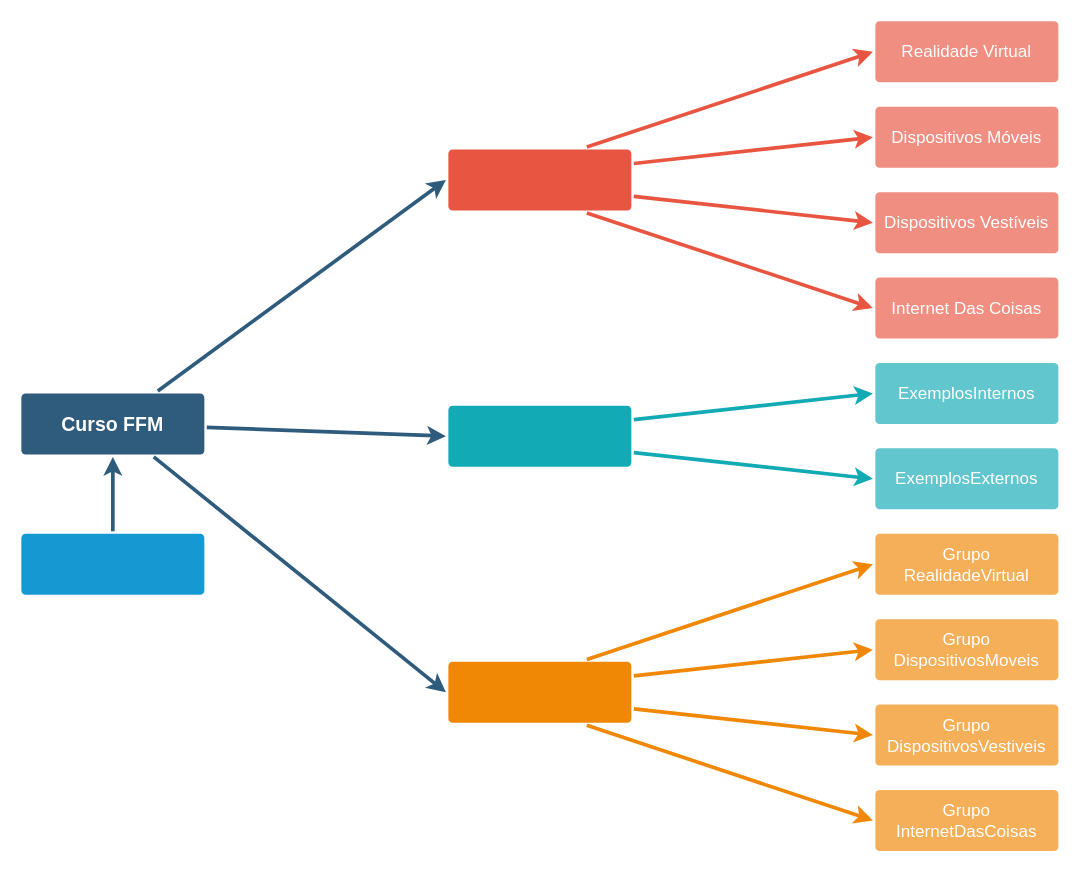
Image size: 1078x871. Some labels were removed from this diagram. Here are the shapes that lost their labels. From the top down, the box of each, then its label:
(448, 149, 631, 210): Conceitos
(448, 405, 631, 466): HardwareExemplos
(21, 533, 204, 594): Material dos outros Cursos
(448, 661, 631, 722): Dinamica
